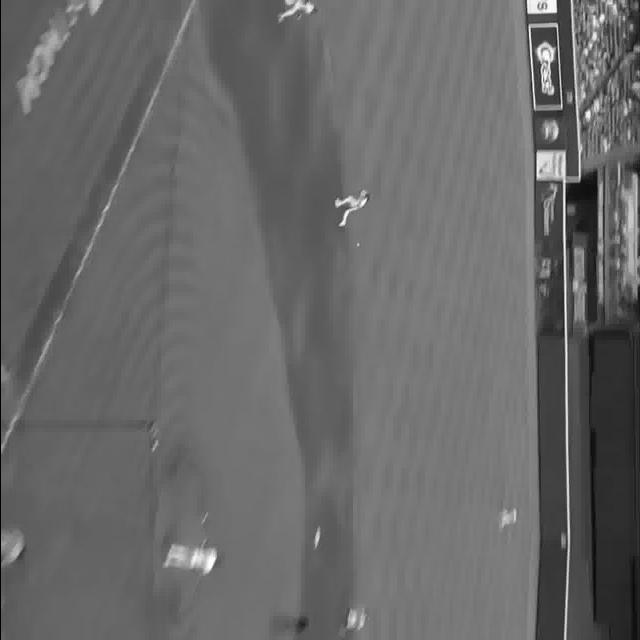base: (313, 524, 321, 552)
baseball: (354, 242, 356, 248)
